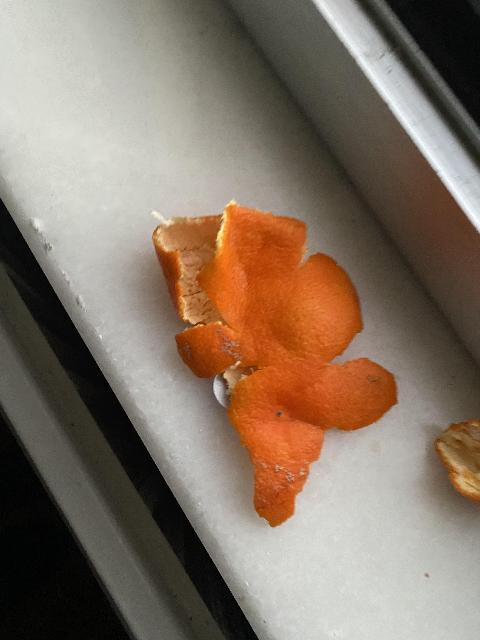Organik: (141, 205, 405, 525), (151, 224, 371, 359), (219, 365, 402, 519), (435, 403, 480, 508)
